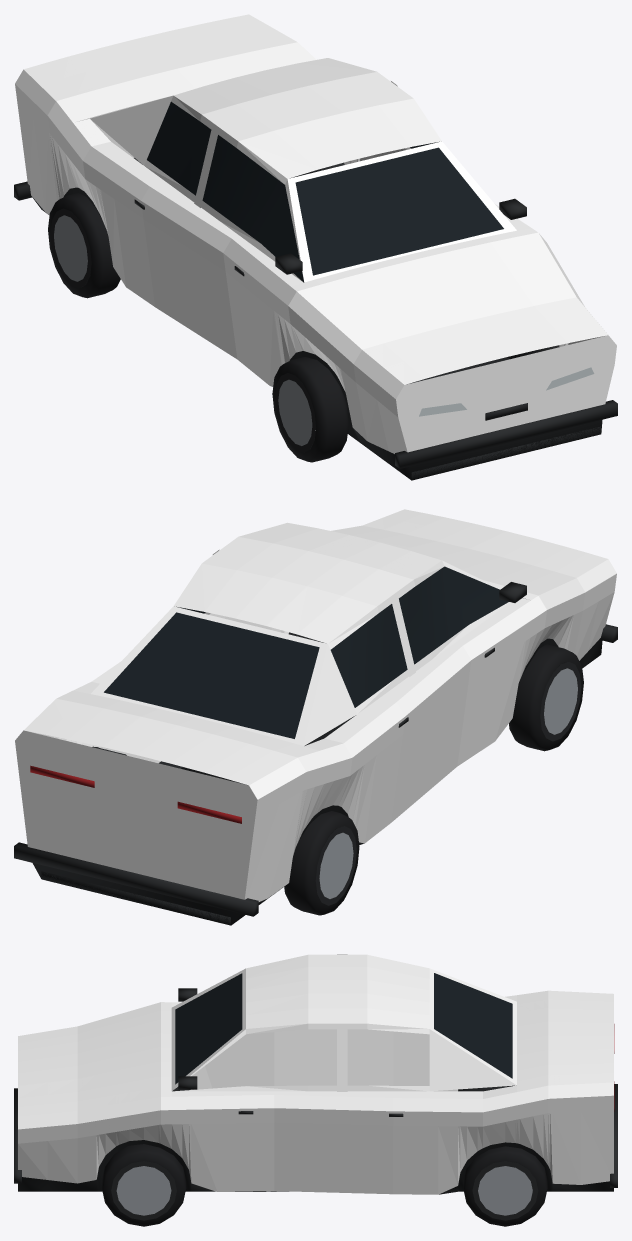
Rendered from volnar_tijolo.glb.
3 renders of one model, top to bottom at view 1: azimuth 30°, elevation 25°; view 2: azimuth 150°, elevation 25°; view 3: azimuth 270°, elevation 25°, orthographic. The views are drawn at different scales.
Visible parts, largest first — view 1: Body_Paint, Body_Details, Mount_FrontLeft_Wheel_Details, Mount_RearLeft_Wheel_Details; view 2: Body_Paint, Body_Details, Mount_FrontLeft_Wheel_Details, Mount_RearLeft_Wheel_Details; view 3: Body_Paint, Body_Details, Mount_FrontRight_Wheel_Details, Mount_RearRight_Wheel_Details.
Boxes of the visible parts, left/top/right/bottom form: Body_Paint: left=15, top=14, right=616, bottom=453; Body_Details: left=14, top=101, right=617, bottom=480; Mount_FrontLeft_Wheel_Details: left=272, top=357, right=348, bottom=462; Mount_RearLeft_Wheel_Details: left=48, top=193, right=120, bottom=298; Body_Paint: left=15, top=509, right=616, bottom=901; Body_Details: left=14, top=566, right=617, bottom=925; Mount_FrontLeft_Wheel_Details: left=509, top=644, right=583, bottom=751; Mount_RearLeft_Wheel_Details: left=284, top=811, right=359, bottom=915; Body_Paint: left=18, top=954, right=613, bottom=1194; Body_Details: left=14, top=973, right=617, bottom=1194; Mount_FrontRight_Wheel_Details: left=101, top=1144, right=186, bottom=1226; Mount_RearRight_Wheel_Details: left=463, top=1146, right=547, bottom=1226.
Bounding box in the file's own units: 1.72 × 1.44 × 4.14.
2 materials, 1 textured.
